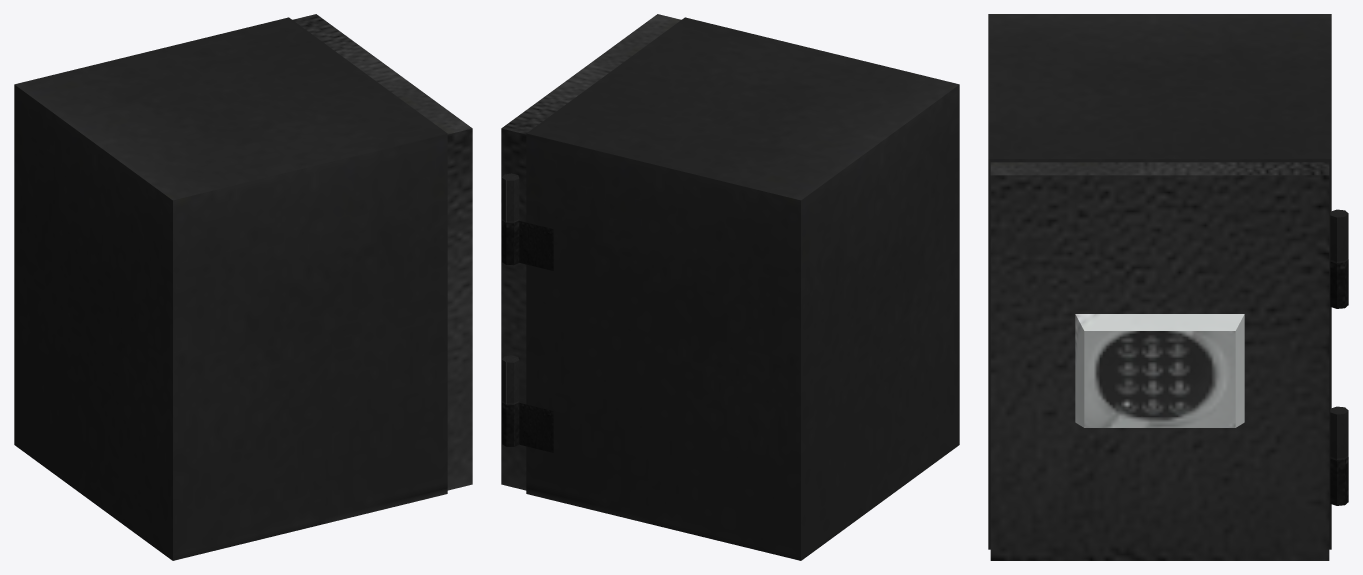
File: Safe.fbx
The picture shows the model from 3 angles, left to right: view 1: azimuth 30°, elevation 25°; view 2: azimuth 150°, elevation 25°; view 3: azimuth 270°, elevation 25°; orthographic projection. The views are drawn at different scales.
Parts seen in each view (by area): view 1: Cube, Cylinder.001; view 2: Cube, Cylinder.001; view 3: Cylinder.001, Cube.
Part boxes in pixels (left/top/right/bottom): Cube: left=14, top=17, right=447, bottom=560; Cylinder.001: left=292, top=14, right=472, bottom=490; Cube: left=502, top=17, right=959, bottom=560; Cylinder.001: left=501, top=14, right=681, bottom=490; Cylinder.001: left=990, top=162, right=1348, bottom=560; Cube: left=988, top=14, right=1348, bottom=549.
Size of the model in its own units: 235 by 251 by 210.
